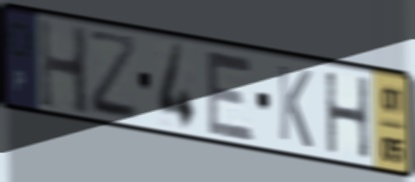4: (156, 39, 198, 135)
E: (203, 46, 257, 145)
H: (37, 14, 93, 120), (322, 69, 372, 162)
K: (275, 61, 315, 152)
Z: (85, 28, 141, 124)
